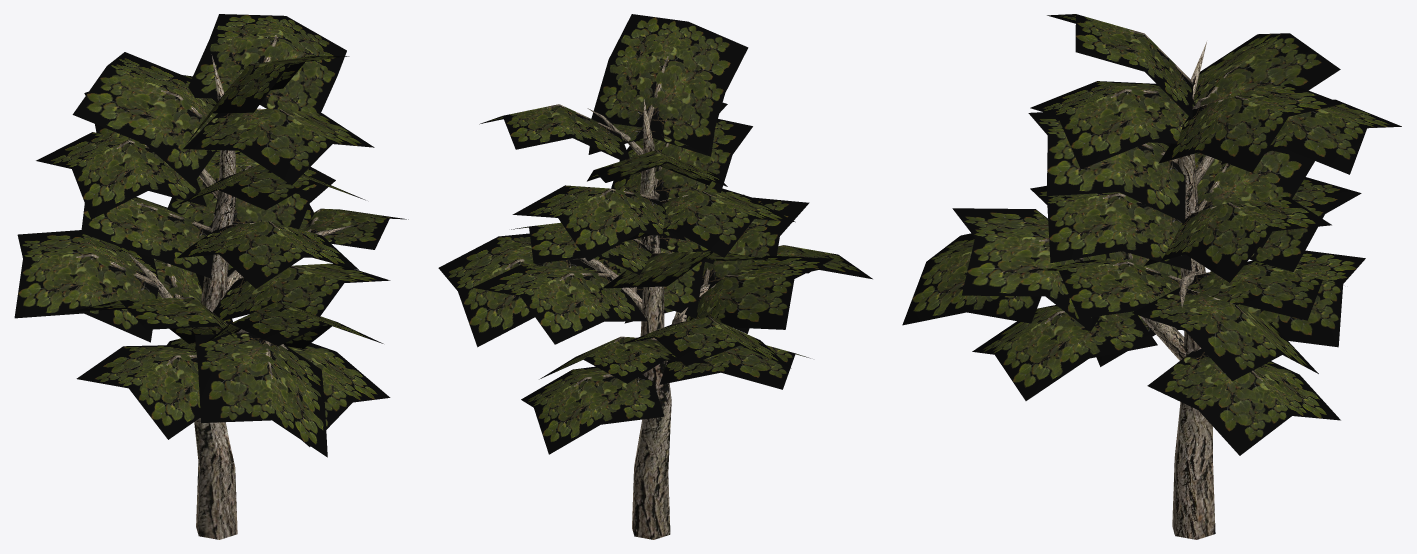
File: tree.glb
The picture shows the model from 3 angles, left to right: view 1: azimuth 30°, elevation 25°; view 2: azimuth 150°, elevation 25°; view 3: azimuth 270°, elevation 25°; orthographic projection. The views are drawn at different scales.
Parts seen in each view (by area): view 1: objdefault; view 2: objdefault; view 3: objdefault.
Part boxes in pixels (x1,y1,x2,y2): objdefault: (14,14,408,539); objdefault: (438,14,872,539); objdefault: (902,14,1401,539).
Bounding box in the file's own units: 7.49 × 9.29 × 8.03.
Materials: 1 (1 with a texture image).
